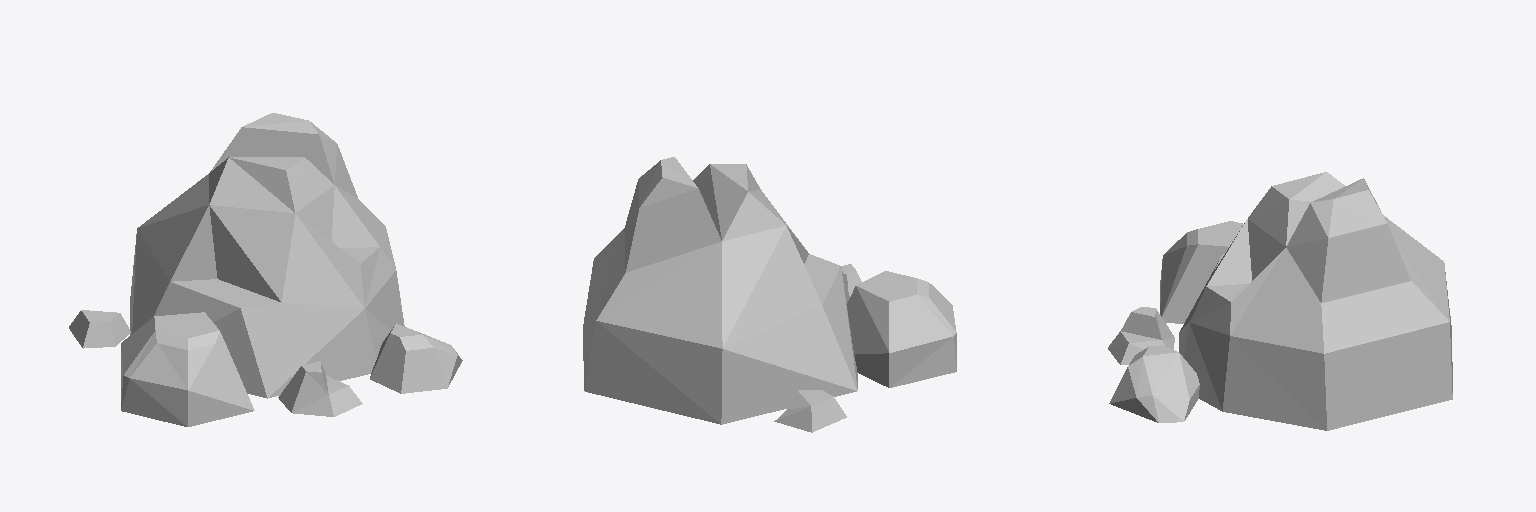
File: rocks_B.obj
3 renders of one model, left to right at view 1: azimuth 30°, elevation 25°; view 2: azimuth 150°, elevation 25°; view 3: azimuth 270°, elevation 25°, orthographic.
Visible parts, largest first — view 1: rocks_B_Cylinder.2732; view 2: rocks_B_Cylinder.2732; view 3: rocks_B_Cylinder.2732.
Part boxes in pixels (x1,y1,x2,y2): rocks_B_Cylinder.2732: (69,113,462,426); rocks_B_Cylinder.2732: (583,157,956,432); rocks_B_Cylinder.2732: (1108,172,1452,430).
Size of the model in its own units: 1.88 by 1.07 by 1.74.